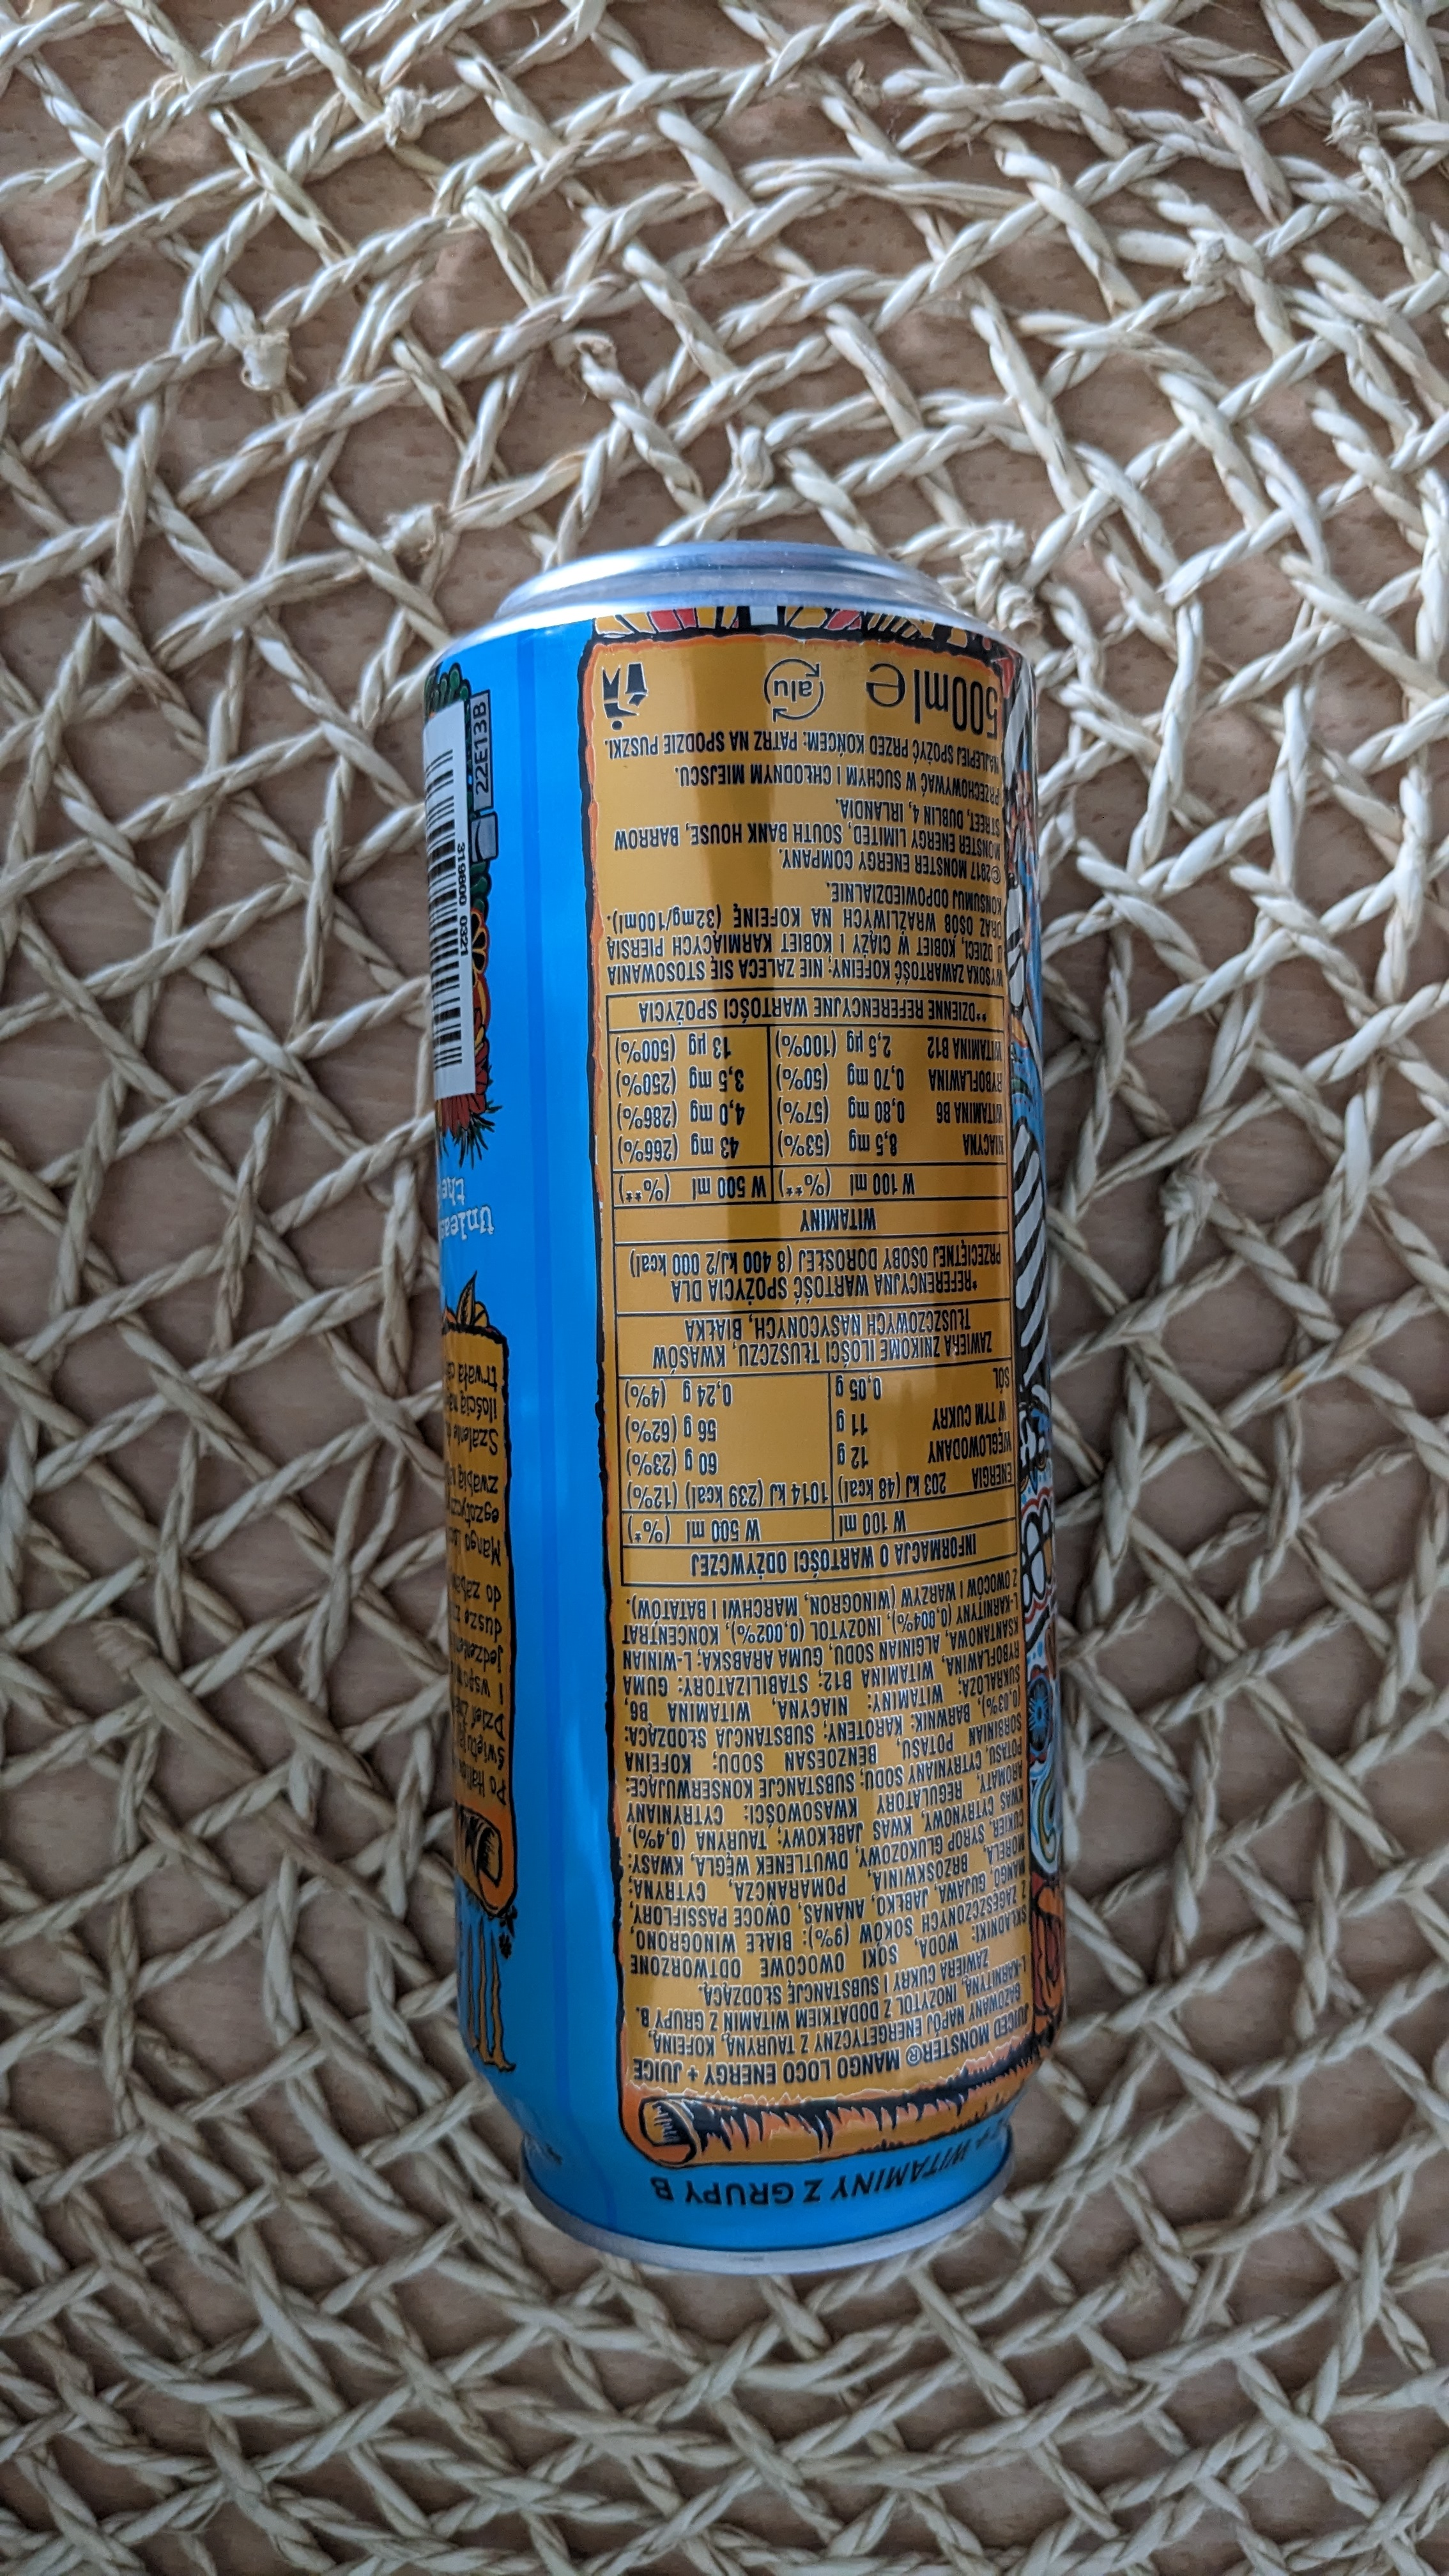monster: (375, 490, 1116, 2277)
